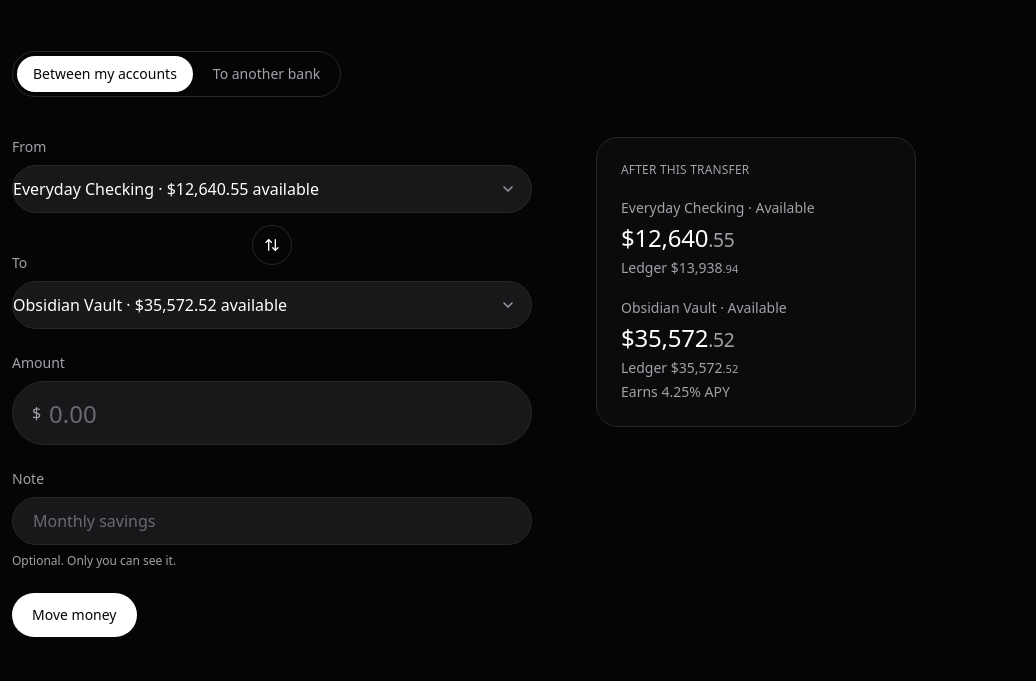
Test: TransferPage external transfers › offers the external form from an accessible choice, with internal transfers as the default
Expected: the element named "Where the money goes" is shown, 11,51 -> 341,97
Expected: the radio button labelled "Between my accounts" is checked, 17,56 -> 193,92
Click the radio button labelled "To another bank" at (267, 74), box 213,64 -> 320,83
(page scrolled)
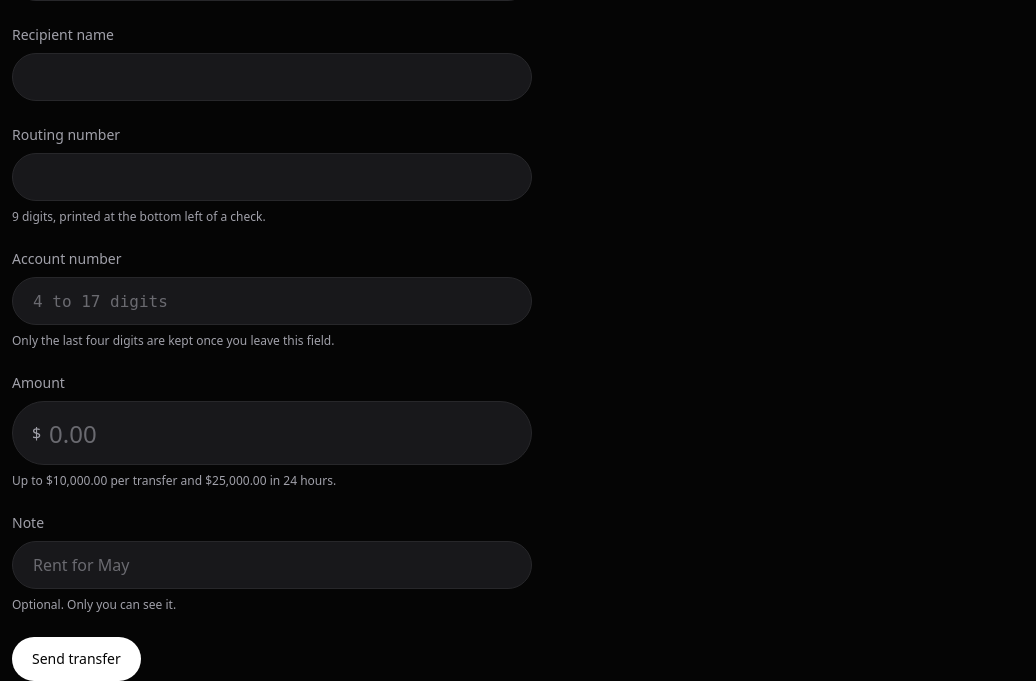
Now the button "Send transfer" is shown, box 12,637 -> 141,680
